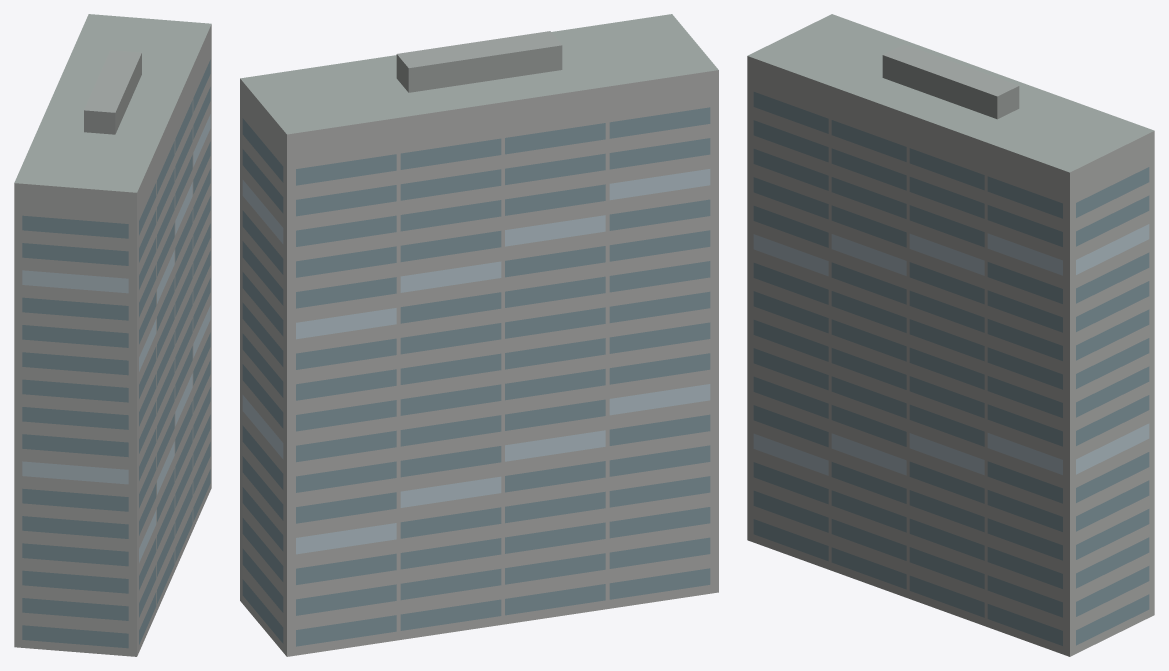
The model's file is fallback-godeok-raemian-hillstate-completion-214.glb.
3 views of the same model, side by side, from view 1: azimuth 30°, elevation 25°; view 2: azimuth 150°, elevation 25°; view 3: azimuth 270°, elevation 25° (orthographic). The views are drawn at different scales.
Visible parts, largest first — view 1: fallback-godeok-raemian-hillstate-completion-214; view 2: fallback-godeok-raemian-hillstate-completion-214; view 3: fallback-godeok-raemian-hillstate-completion-214.
Part boxes in pixels (x1,y1,x2,y2): fallback-godeok-raemian-hillstate-completion-214: (14,14,211,656); fallback-godeok-raemian-hillstate-completion-214: (240,14,718,656); fallback-godeok-raemian-hillstate-completion-214: (747,14,1154,656).
Bounding box in the file's own units: 35.55 × 53 × 38.61.
